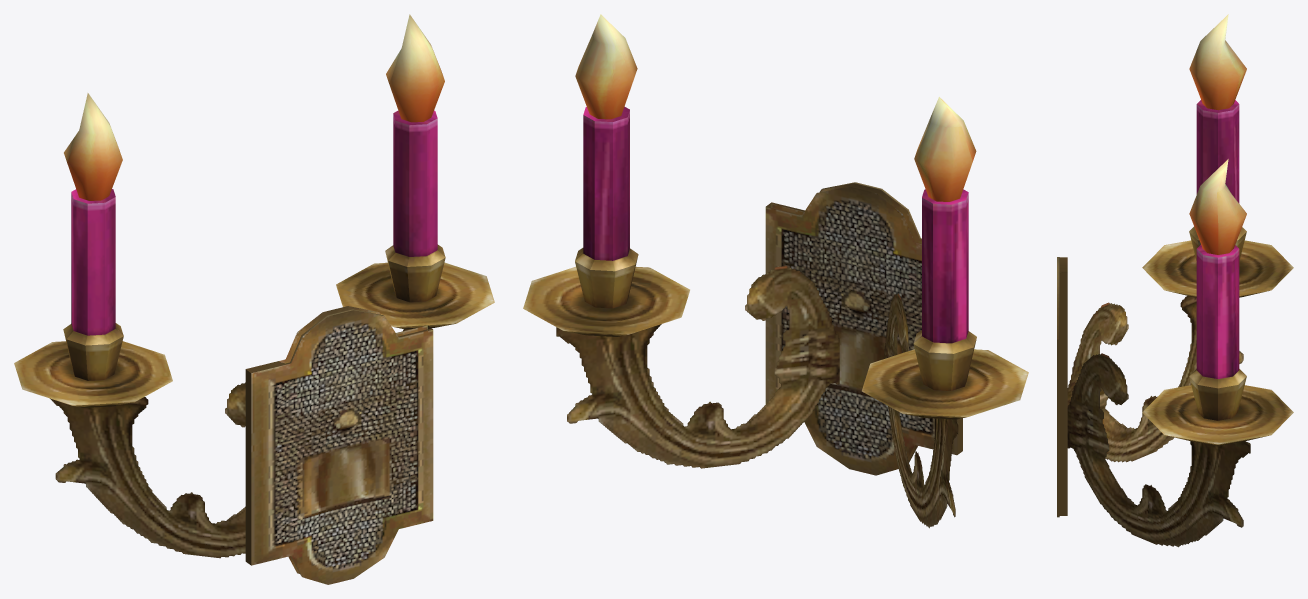
File: furni_0200302_01.FBX
The picture shows the model from 3 angles, left to right: view 1: azimuth 30°, elevation 25°; view 2: azimuth 150°, elevation 25°; view 3: azimuth 270°, elevation 25°; orthographic projection. The views are drawn at different scales.
Parts seen in each view (by area): view 1: furni_0200302_01; view 2: furni_0200302_01; view 3: furni_0200302_01.
Part boxes in pixels (bbox=[...]): furni_0200302_01: bbox=[14, 14, 494, 584]; furni_0200302_01: bbox=[523, 14, 1028, 528]; furni_0200302_01: bbox=[1057, 14, 1293, 547].
Bounding box in the file's own units: 72.79 × 68.94 × 34.88.
1 material, 1 textured.
